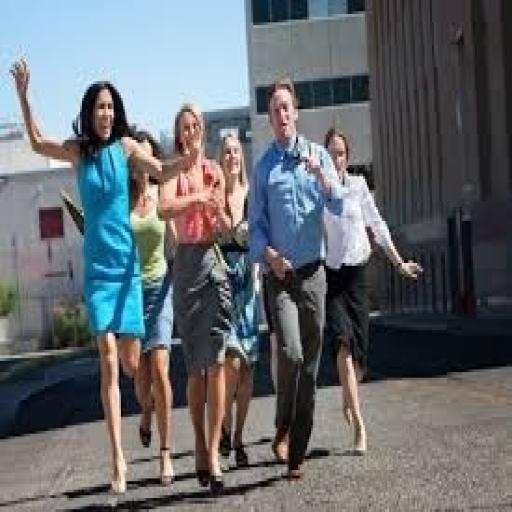running: (8, 56, 173, 498), (244, 76, 348, 481), (313, 123, 424, 462), (154, 101, 236, 498)
